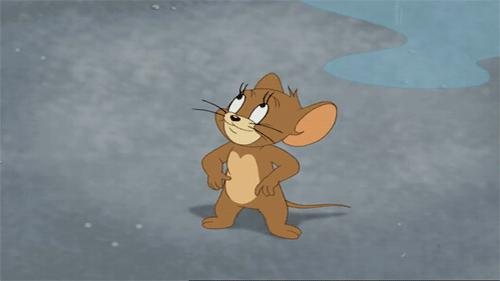jerry: (200, 72, 352, 241)
